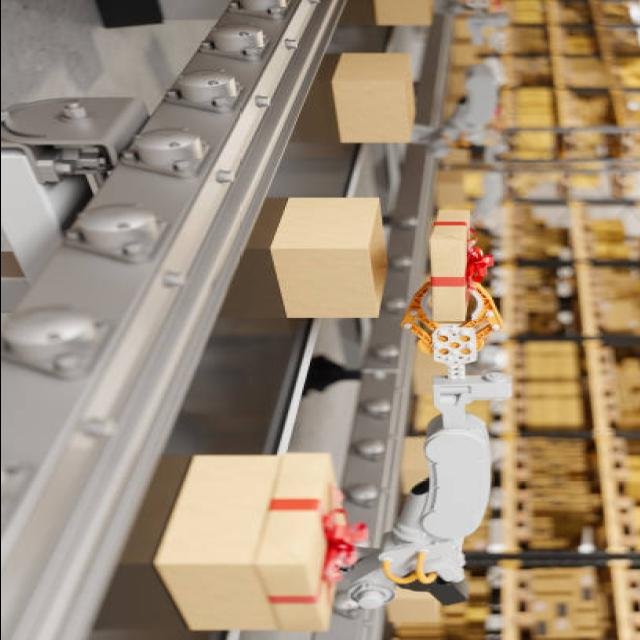Robotic-arm: (340, 314, 522, 614), (419, 44, 510, 152)
